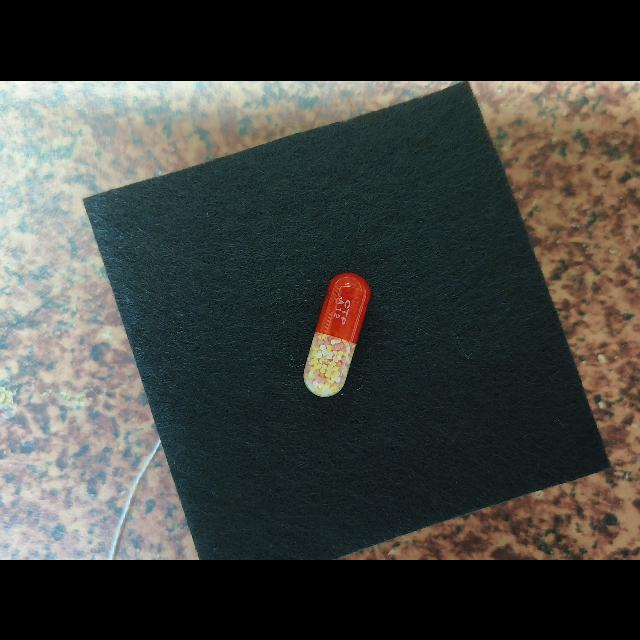Intact Capsule: (303, 272, 371, 396)
